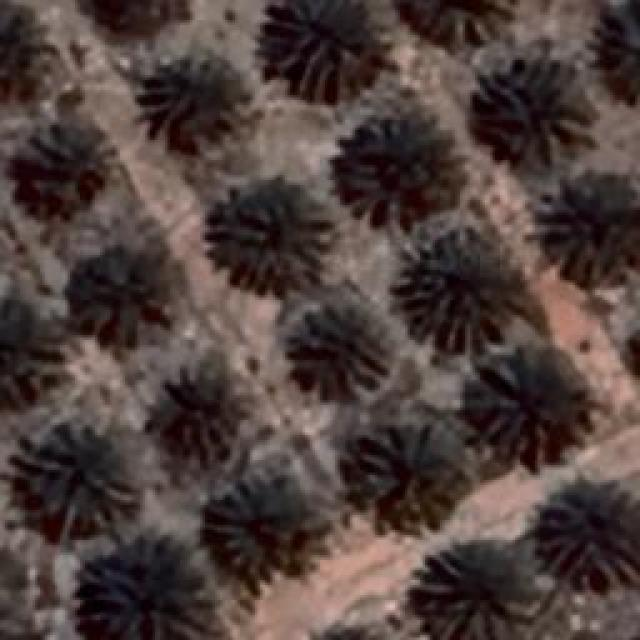PalmTree: (388, 232, 522, 350), (10, 415, 140, 535), (465, 58, 590, 172), (467, 350, 596, 460), (82, 534, 218, 638), (207, 185, 335, 293), (522, 470, 636, 590), (255, 0, 382, 102), (130, 42, 252, 148), (280, 290, 390, 402), (350, 420, 462, 530), (530, 175, 638, 288), (410, 542, 532, 638), (356, 114, 456, 218), (74, 246, 172, 352), (206, 485, 314, 575), (18, 123, 118, 210), (154, 365, 248, 455), (1, 276, 56, 409), (579, 0, 640, 107), (0, 0, 60, 107), (81, 0, 197, 47), (405, 2, 513, 50)
